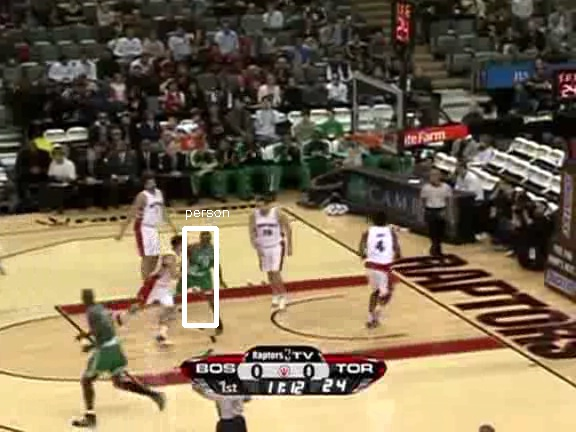person: (186, 227, 220, 308), (185, 227, 219, 308), (187, 227, 221, 308), (186, 226, 220, 307), (186, 228, 220, 309)
target_negative: (105, 144, 365, 300), (381, 182, 499, 405), (302, 325, 567, 415), (465, 89, 531, 363), (338, 111, 534, 121), (109, 312, 210, 323)
